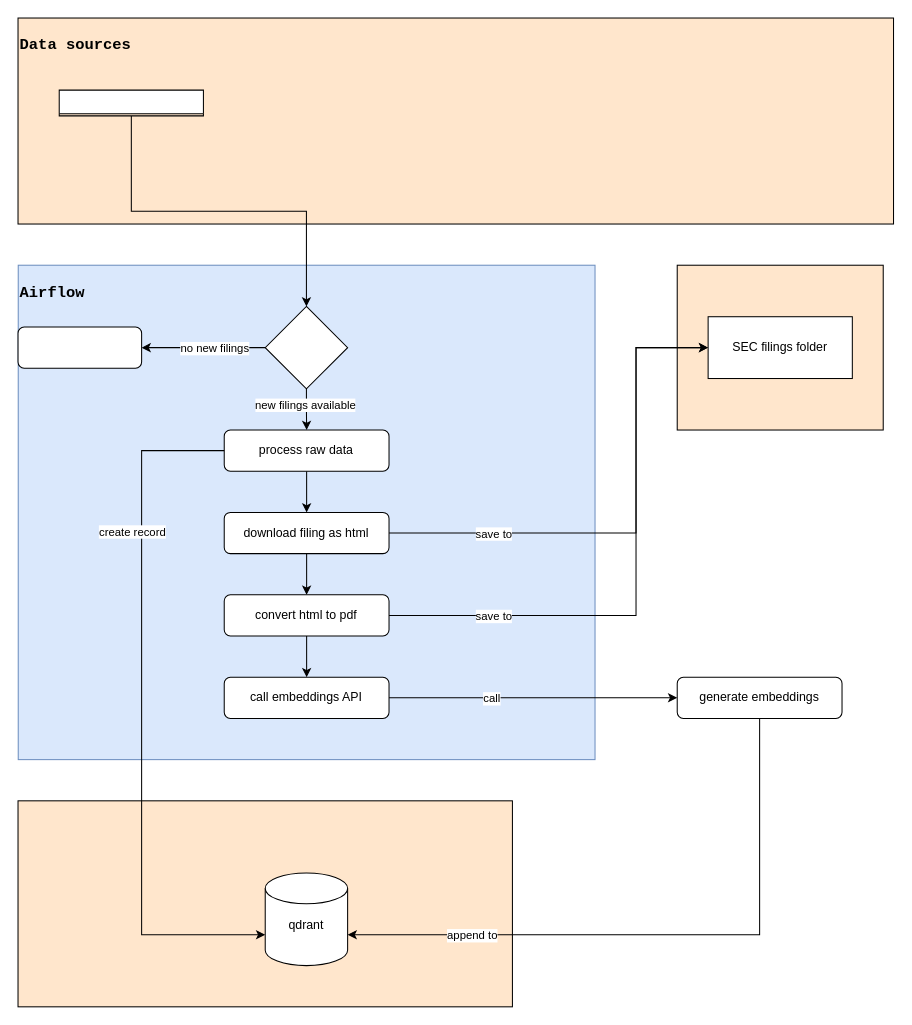
Some shapes in this 912 by 1025 pixel diagram are drawn without their labels. The box of each missing label's shape, as (x1, y1, x2, y2) in pixels:
Databases: (17, 800, 512, 1007)
Datalake: (676, 264, 883, 430)
EDGAR: (58, 89, 203, 116)
End: (17, 326, 142, 368)
ping_edgar: (264, 305, 348, 389)
